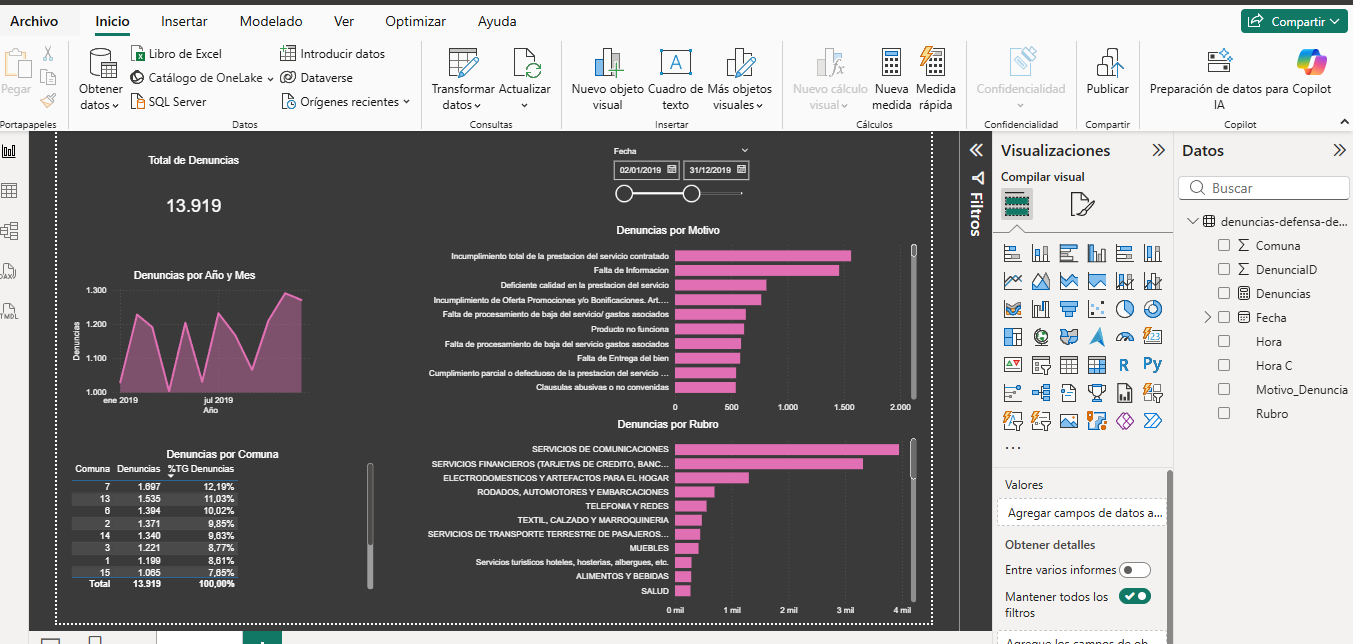

What the dashboard file says about the page in this screenshot:
{"tool":"powerbi","page":{"name":"Página 1","canvas":[1280,720],"ordinal":0},"visuals":[{"type":"card","title":"Total de Denuncias","fields":{"Values":["denuncias-defensa-del-consumidor.Denuncias"]},"box":[51.2,33.7,297.1,134.6],"z":0},{"type":"areaChart","fields":{"Category":["denuncias-defensa-del-consumidor.Fecha.Variación.Jerarquía de fechas.Año","denuncias-defensa-del-consumidor.Fecha.Variación.Jerarquía de fechas.Mes"],"Y":["denuncias-defensa-del-consumidor.Denuncias"]},"box":[17.3,201.6,367.2,218.9],"z":1000},{"type":"barChart","title":"Denuncias por Motivo","fields":{"Y":["denuncias-defensa-del-consumidor.Denuncias"],"Category":["denuncias-defensa-del-consumidor.Motivo_Denuncia"]},"box":[525.4,136.1,737.6,283.9],"z":2000},{"type":"barChart","fields":{"Y":["denuncias-defensa-del-consumidor.Denuncias"],"Category":["denuncias-defensa-del-consumidor.Rubro"]},"box":[525.6,420.5,737.3,296.6],"z":3000},{"type":"tableEx","title":"Denuncias por Comuna","fields":{"Values":["denuncias-defensa-del-consumidor.Comuna","denuncias-defensa-del-consumidor.Denuncias","Divide(denuncias-defensa-del-consumidor.Denuncias, ScopedEval(denuncias-defensa-del-consumidor.Denuncias, []))"]},"box":[16.8,463.6,451.9,211.7],"z":4000},{"type":"slicer","fields":{"Values":["denuncias-defensa-del-consumidor.Fecha"]},"box":[802,17.6,222.4,95.1],"z":5000}]}

Visuals, with their boxes on the page's 1280x720 design canvas (x1, y1, x2, y2). These are canvas units, not pixel positions in the 1353x644 screenshot, which may show the page scaled, cropped or inside an application window:
"Total de Denuncias" card: select_region(51, 34, 348, 168)
areaChart - denuncias-defensa-del-consumidor.Fecha.Variación.Jerarquía de fechas.Año x denuncias-defensa-del-consumidor.Fecha.Variación.Jerarquía de fechas.Mes: select_region(17, 202, 384, 420)
"Denuncias por Motivo" barChart: select_region(525, 136, 1263, 420)
barChart - denuncias-defensa-del-consumidor.Denuncias x denuncias-defensa-del-consumidor.Rubro: select_region(526, 420, 1263, 717)
"Denuncias por Comuna" tableEx: select_region(17, 464, 469, 675)
slicer - denuncias-defensa-del-consumidor.Fecha: select_region(802, 18, 1024, 113)
